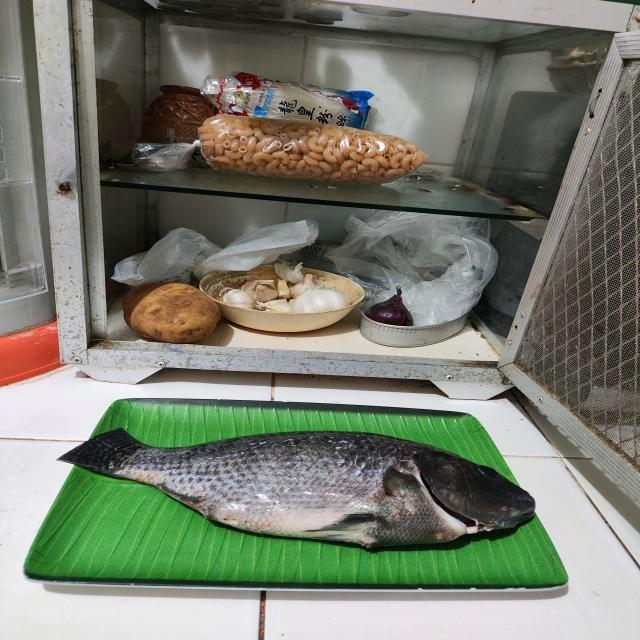fish: (52, 422, 537, 550)
garlic: (220, 275, 351, 315)
onion: (367, 293, 415, 331)
potato: (124, 281, 220, 342)
